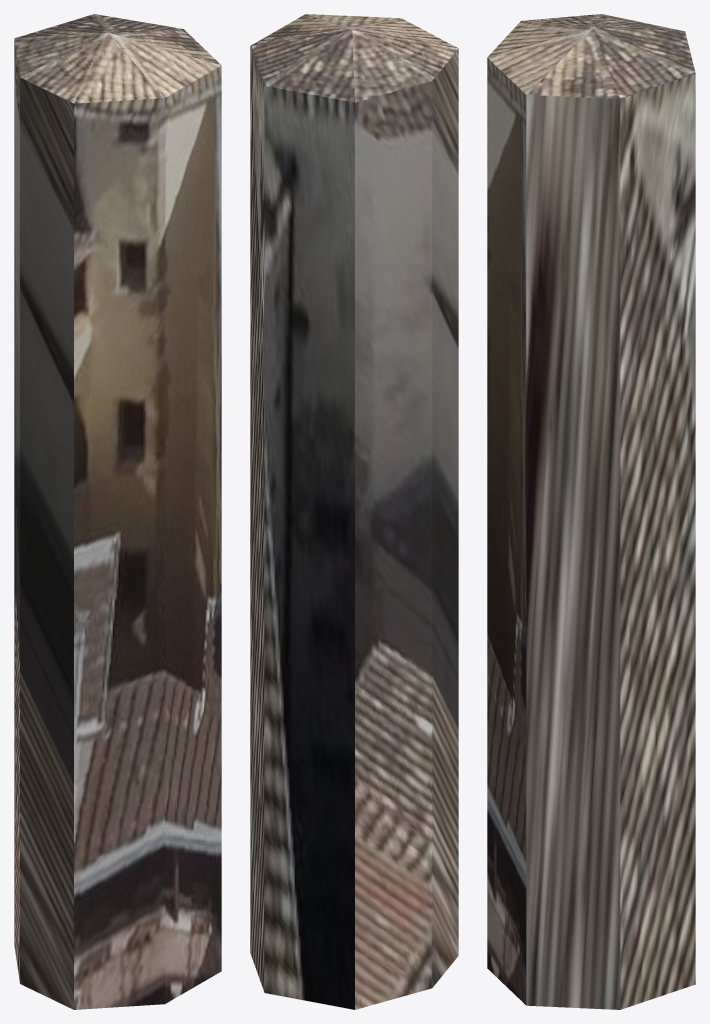
The picture shows the model from 3 angles, left to right: view 1: azimuth 30°, elevation 25°; view 2: azimuth 150°, elevation 25°; view 3: azimuth 270°, elevation 25°; orthographic projection.
Visible parts, largest first — view 1: Z_UP; view 2: Z_UP; view 3: Z_UP.
Boxes of the visible parts, <box> form: Z_UP: <box>14,14,221,1009</box>; Z_UP: <box>250,14,458,1009</box>; Z_UP: <box>487,14,695,1009</box>.
Size of the model in its own units: 4.07 by 21.02 by 4.23.
Materials: 2 (1 with a texture image).
